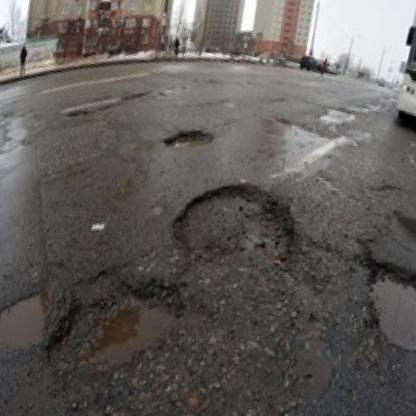pothole: (161, 162, 310, 291), (68, 265, 195, 396), (351, 259, 416, 361), (0, 274, 62, 358), (161, 118, 219, 159), (68, 106, 91, 122)
